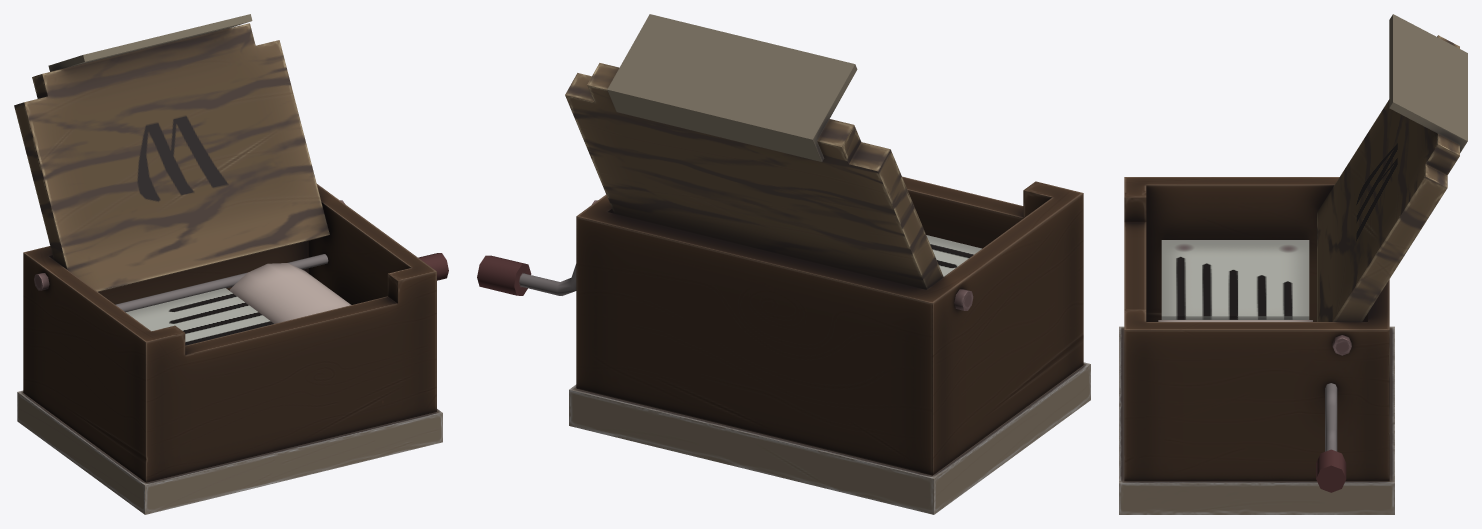
3 renders of one model, left to right at view 1: azimuth 30°, elevation 25°; view 2: azimuth 150°, elevation 25°; view 3: azimuth 270°, elevation 25°, orthographic. The views are drawn at different scales.
Visible parts, largest first — view 1: Box, Lid, MusicLeaf, Cylinder, Handle; view 2: Box, Lid, Handle, MusicLeaf; view 3: Box, Lid, MusicLeaf, Handle.
Part boxes in pixels (<box>): Box: <box>17,184,442,514</box>; Lid: <box>14,14,329,291</box>; MusicLeaf: <box>126,288,274,345</box>; Cylinder: <box>229,263,351,323</box>; Handle: <box>115,253,448,312</box>; Box: <box>569,176,1090,514</box>; Lid: <box>565,14,943,289</box>; Handle: <box>477,255,576,295</box>; MusicLeaf: <box>926,235,981,276</box>; Box: <box>1119,177,1394,514</box>; Lid: <box>1317,14,1467,321</box>; MusicLeaf: <box>1161,240,1309,319</box>; Handle: <box>1316,383,1346,492</box>.
Size of the model in its own units: 116 by 97.62 by 81.52.
Materials: 1 (1 with a texture image).
